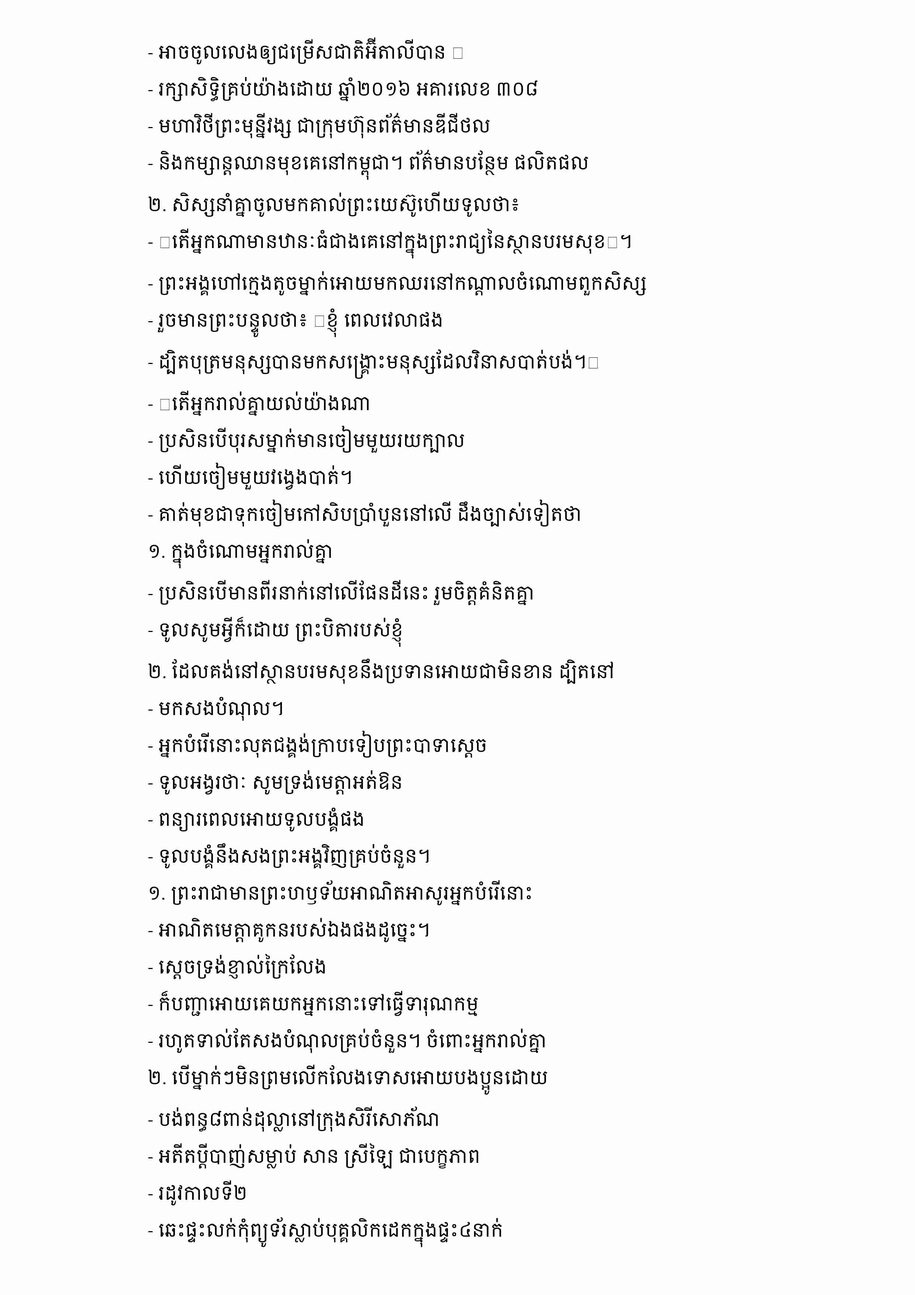text: (148, 229, 637, 259), (148, 349, 605, 379), (148, 150, 594, 180), (148, 271, 652, 296), (148, 499, 587, 527), (148, 1065, 553, 1095), (148, 659, 619, 684), (148, 1217, 508, 1247), (148, 880, 538, 906), (148, 1028, 552, 1053), (148, 77, 543, 102), (148, 580, 539, 605), (148, 192, 525, 217), (148, 731, 493, 758), (148, 37, 469, 65), (148, 1143, 485, 1169), (148, 113, 496, 138), (148, 308, 448, 337), (148, 426, 470, 453), (148, 991, 484, 1016), (148, 617, 408, 647), (148, 1106, 445, 1132), (148, 843, 436, 869), (148, 918, 435, 942), (148, 770, 408, 795), (148, 391, 376, 416), (148, 539, 338, 569), (148, 463, 358, 490), (148, 807, 370, 832), (148, 954, 332, 979), (148, 697, 289, 721), (148, 1180, 252, 1206)
